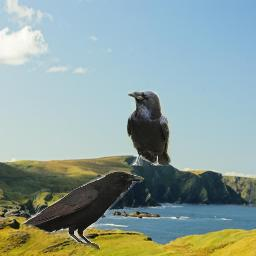Crow: (22, 170, 143, 250), (126, 90, 171, 166)
